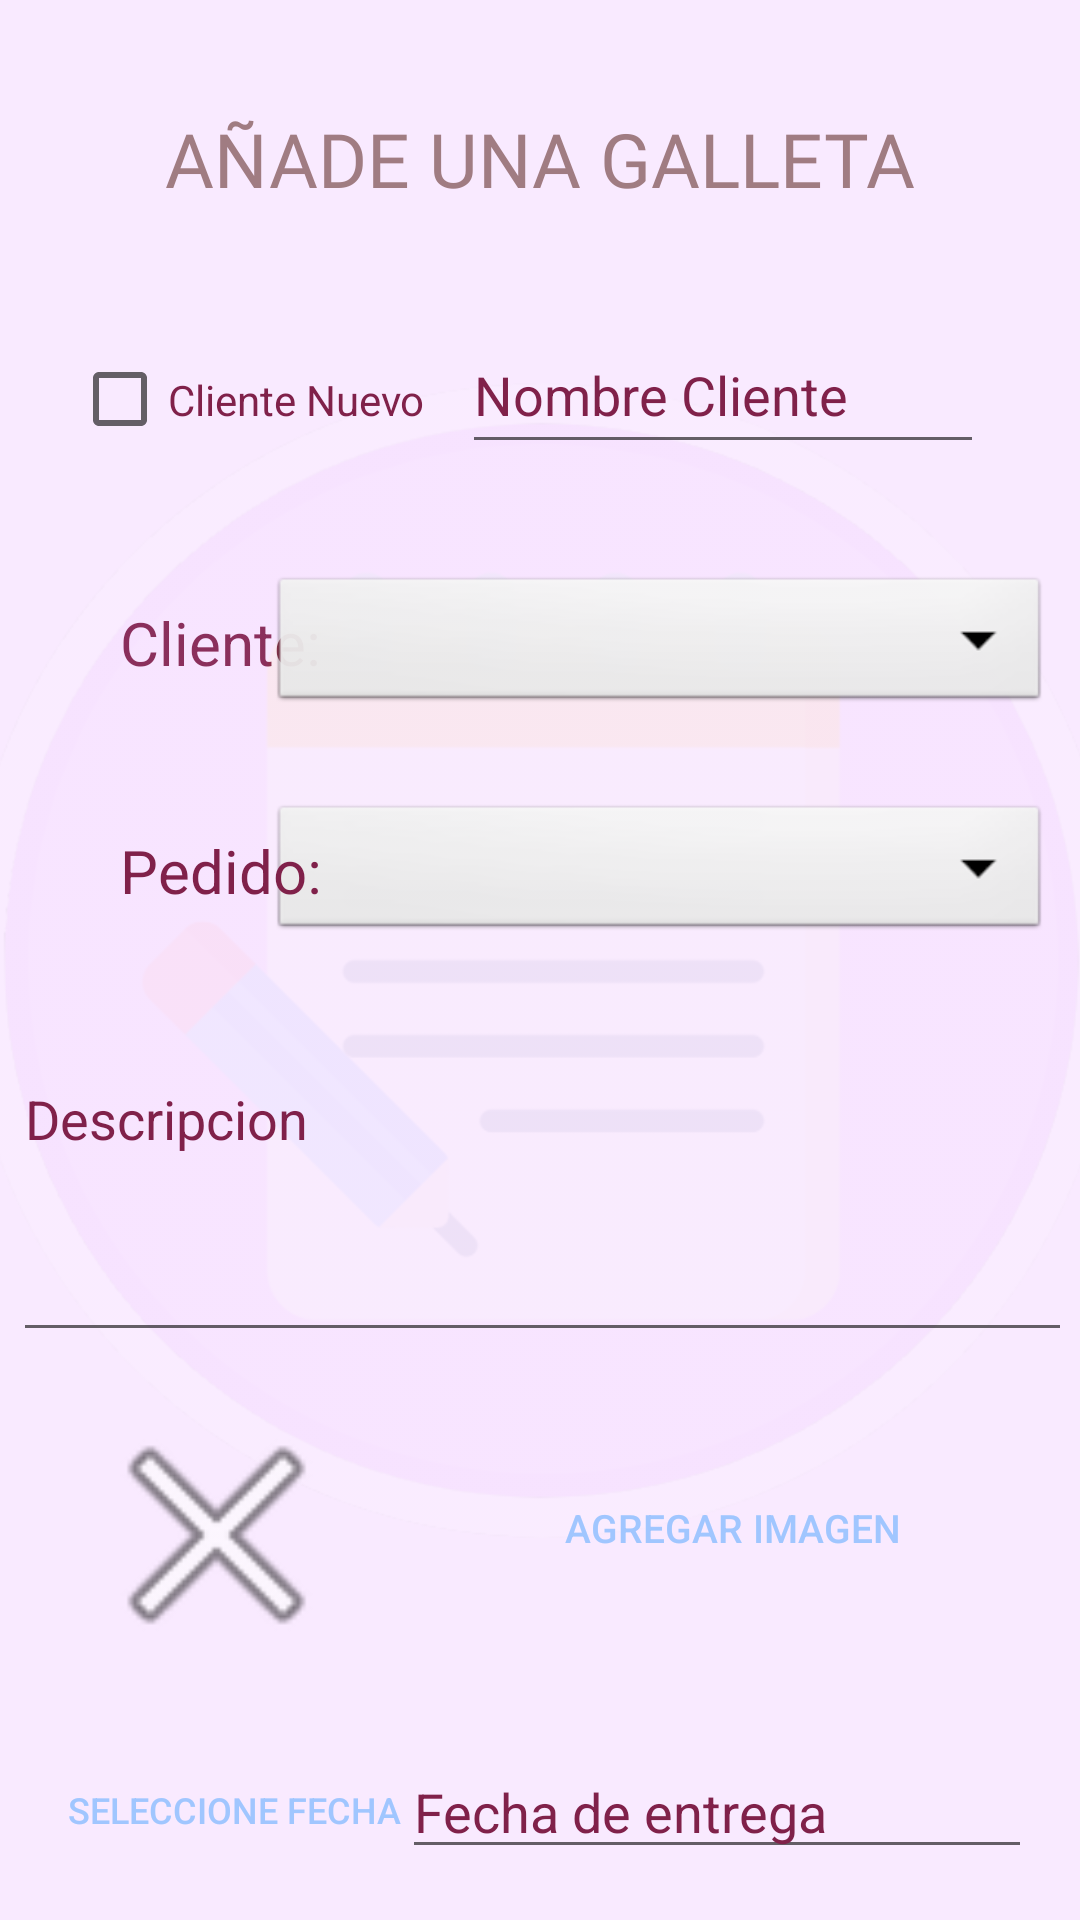

Locate icon controls on the screen. Image size 1080*1920, boxes as (x1, y1, x2, y2).
close clear cancel: (128, 1446, 305, 1624)
